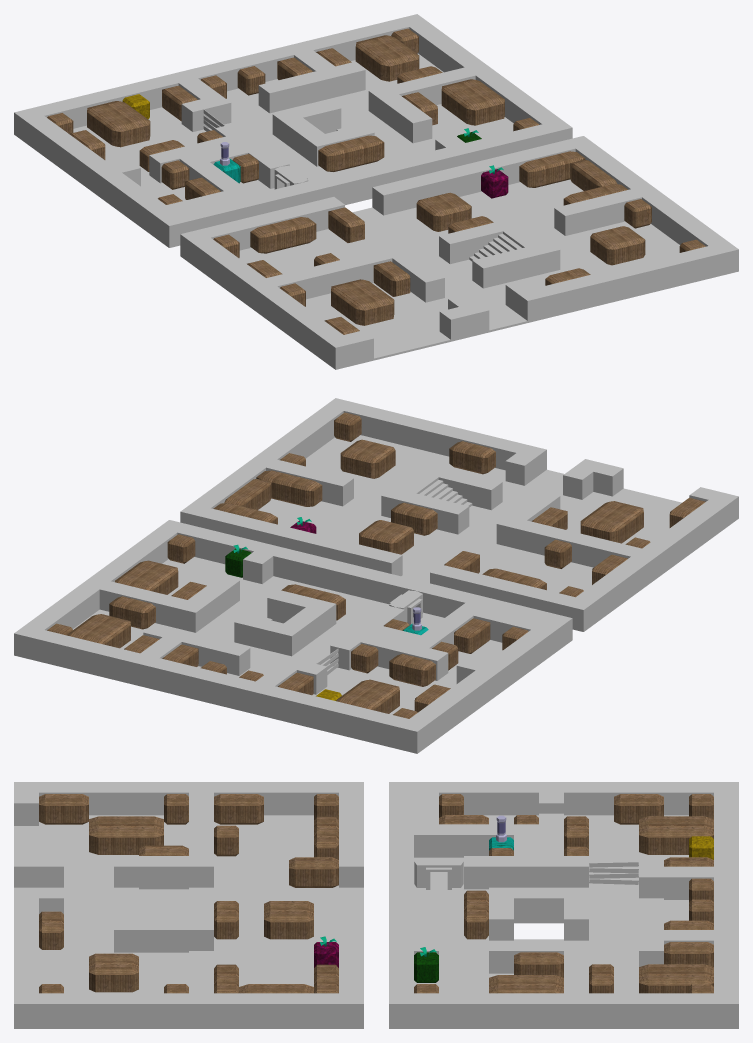
The model's file is House1-02.dae.
3 renders of one model, top to bottom at view 1: azimuth 30°, elevation 25°; view 2: azimuth 150°, elevation 25°; view 3: azimuth 270°, elevation 25°, orthographic. The views are drawn at different scales.
Parts seen in each view (by area): view 1: block (×27), porch_floorCenter (×5), block_bevel (×18), stairs_small_x0025_; view 2: block (×30), porch_floorCenter (×4), block_bevel (×20), stairs_small_x0025_, doorway; view 3: block (×34), porch_floorCenter (×3), block_bevel (×35), doorway, barricade_large.
Part boxes in pixels (x1,y1,x2,y2): block (×27): (14,14,738,367); porch_floorCenter (×5): (14,53,738,369); block_bevel (×18): (87,35,651,325); stairs_small_x0025_: (469,230,529,261); block (×30): (14,398,738,751); porch_floorCenter (×4): (14,435,738,753); block_bevel (×20): (67,412,643,713); stairs_small_x0025_: (412,476,472,507); doorway: (389,590,422,625); block (×34): (14,782,738,1026); porch_floorCenter (×3): (14,815,738,1028); block_bevel (×35): (39,794,713,993); doorway: (414,857,463,889); barricade_large: (589,862,638,884).
Size of the model in its own units: 21 by 3 by 29.
